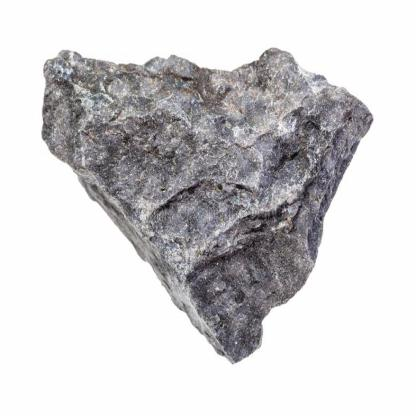Igneous_Basalt: (33, 32, 376, 362)
